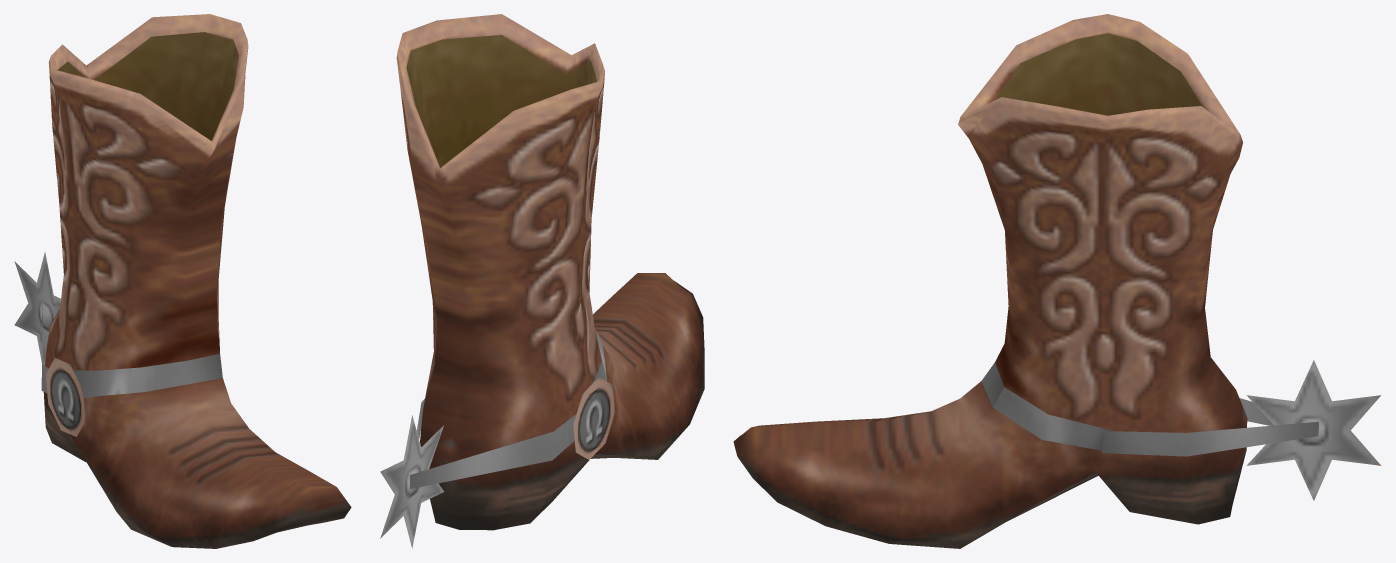
The picture shows the model from 3 angles, left to right: view 1: azimuth 30°, elevation 25°; view 2: azimuth 150°, elevation 25°; view 3: azimuth 270°, elevation 25°; orthographic projection. The views are drawn at different scales.
Visible parts, largest first — view 1: boot; view 2: boot; view 3: boot.
Boxes of the visible parts, x1=… form: boot: x1=14, y1=14, x2=351, y2=548; boot: x1=380, y1=14, x2=704, y2=548; boot: x1=733, y1=14, x2=1381, y2=548.
Bounding box in the file's own units: 70.84 × 147 × 188.
1 material, 1 textured.
